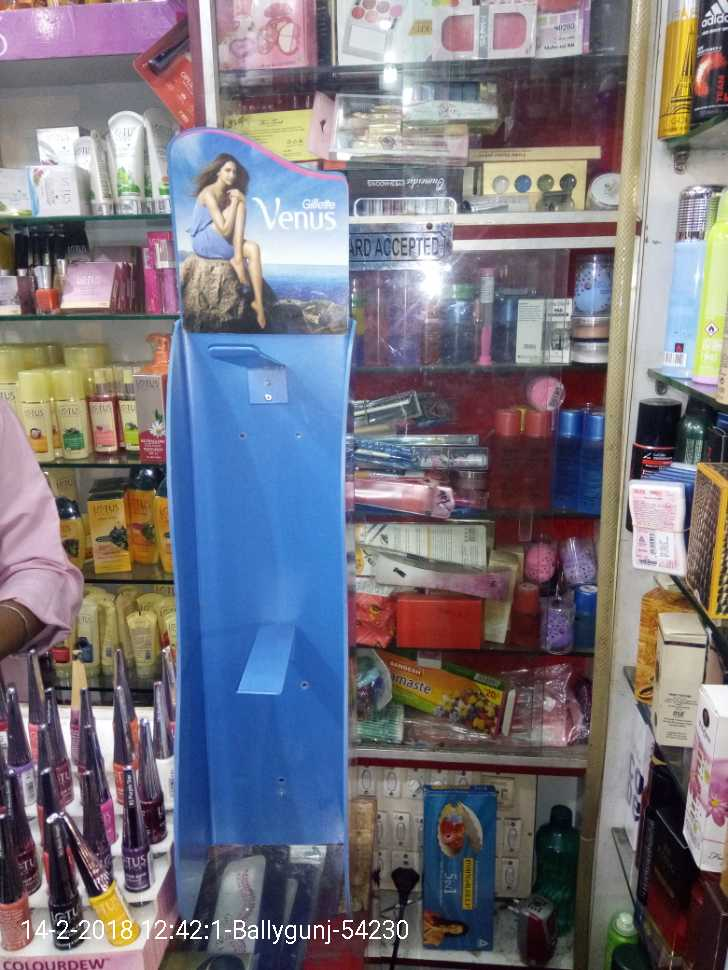reject: (245, 437, 401, 569)
